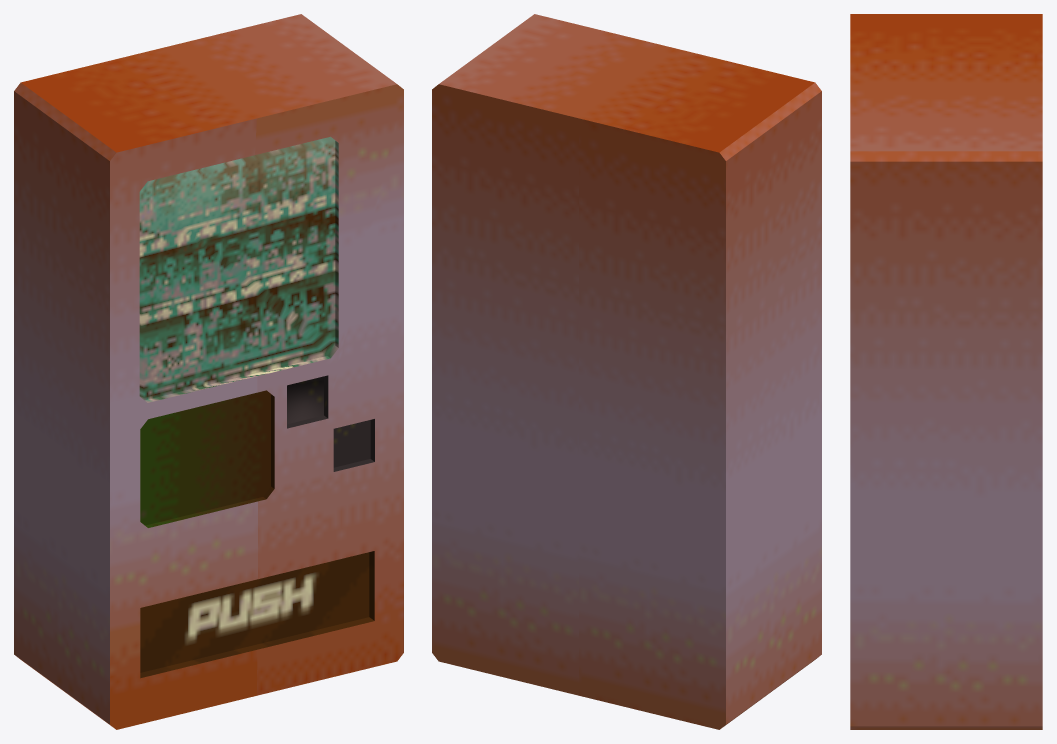
The model's file is VendingMachine.fbx.
3 renders of one model, left to right at view 1: azimuth 30°, elevation 25°; view 2: azimuth 150°, elevation 25°; view 3: azimuth 270°, elevation 25°, orthographic.
Visible parts, largest first — view 1: Machine; view 2: Machine; view 3: Machine.
Part boxes in pixels (<box>): Machine: <box>14,14,403,729</box>; Machine: <box>432,14,821,729</box>; Machine: <box>850,14,1042,729</box>.
Bounding box in the file's own units: 354 × 664 × 200.
